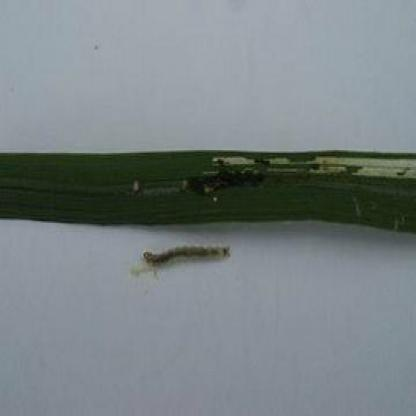leaf-folder: (128, 230, 246, 283)
